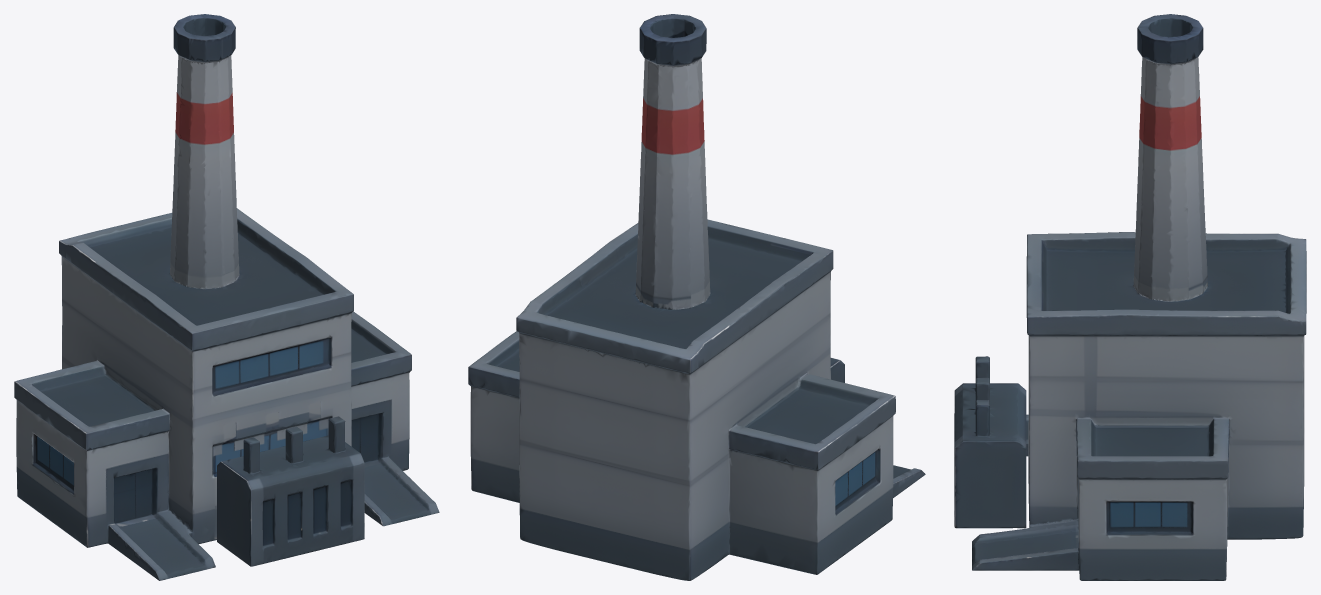
The model's file is factory.glb.
The picture shows the model from 3 angles, left to right: view 1: azimuth 30°, elevation 25°; view 2: azimuth 150°, elevation 25°; view 3: azimuth 270°, elevation 25°; orthographic projection. The views are drawn at different scales.
Parts seen in each view (by area): view 1: model.001, model.002; view 2: model.001; view 3: model.001, model.002.
Part boxes in pixels (x1,y1,x2,y2): model.001: (14, 14, 439, 580); model.002: (217, 416, 364, 566); model.001: (468, 14, 925, 580); model.001: (972, 14, 1306, 580); model.002: (954, 356, 1026, 528).
Size of the model in its own units: 1.44 by 1.9 by 1.28.
1 material, 1 textured.
